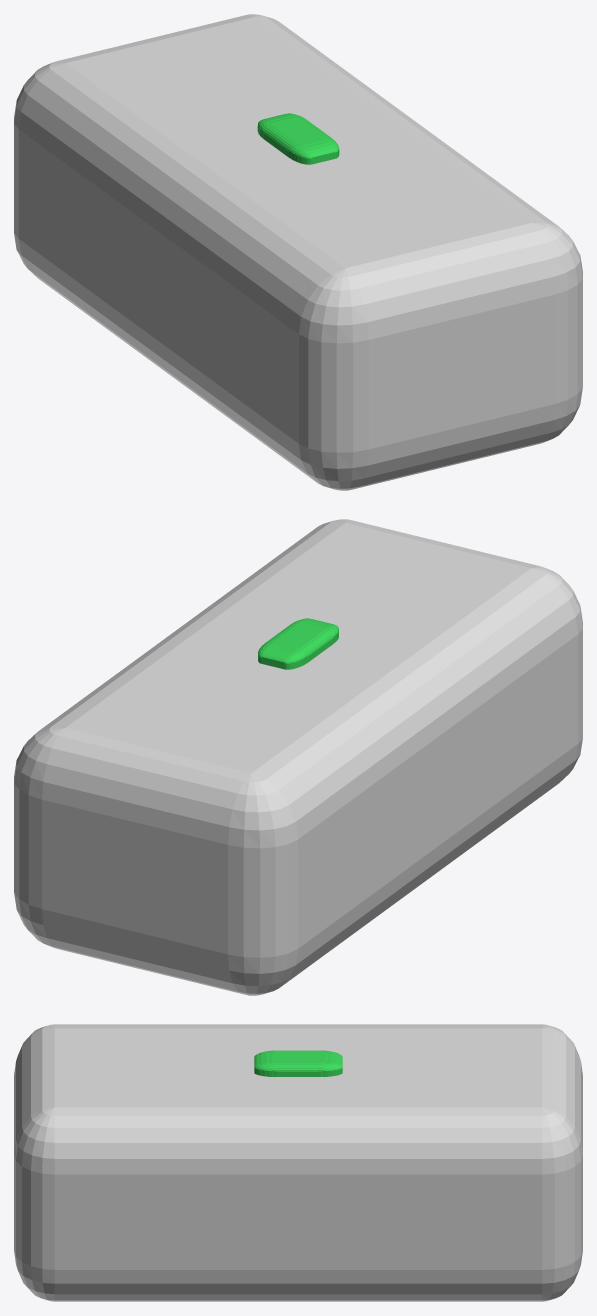
The model's file is shari.obj.
3 views of the same model, one above another, from view 1: azimuth 30°, elevation 25°; view 2: azimuth 150°, elevation 25°; view 3: azimuth 270°, elevation 25° (orthographic). The views are drawn at different scales.
Parts seen in each view (by area): view 1: group_0_16448250, group_0_3725656; view 2: group_0_16448250, group_0_3725656; view 3: group_0_16448250, group_0_3725656.
Boxes of the visible parts, x1,y1,x2,y2 form: group_0_16448250: [14, 14, 582, 490]; group_0_3725656: [257, 113, 339, 164]; group_0_16448250: [14, 519, 582, 995]; group_0_3725656: [258, 618, 338, 669]; group_0_16448250: [14, 1024, 582, 1301]; group_0_3725656: [254, 1050, 342, 1076].
Bounding box in the file's own units: 0.844 × 0.666 × 1.71.
